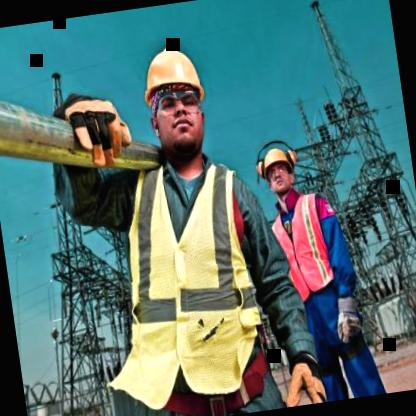helmet: (127, 21, 222, 171), (250, 130, 306, 210)
